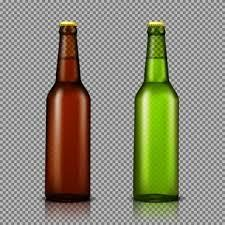Glass bottle: (112, 8, 200, 213), (38, 16, 104, 213)
